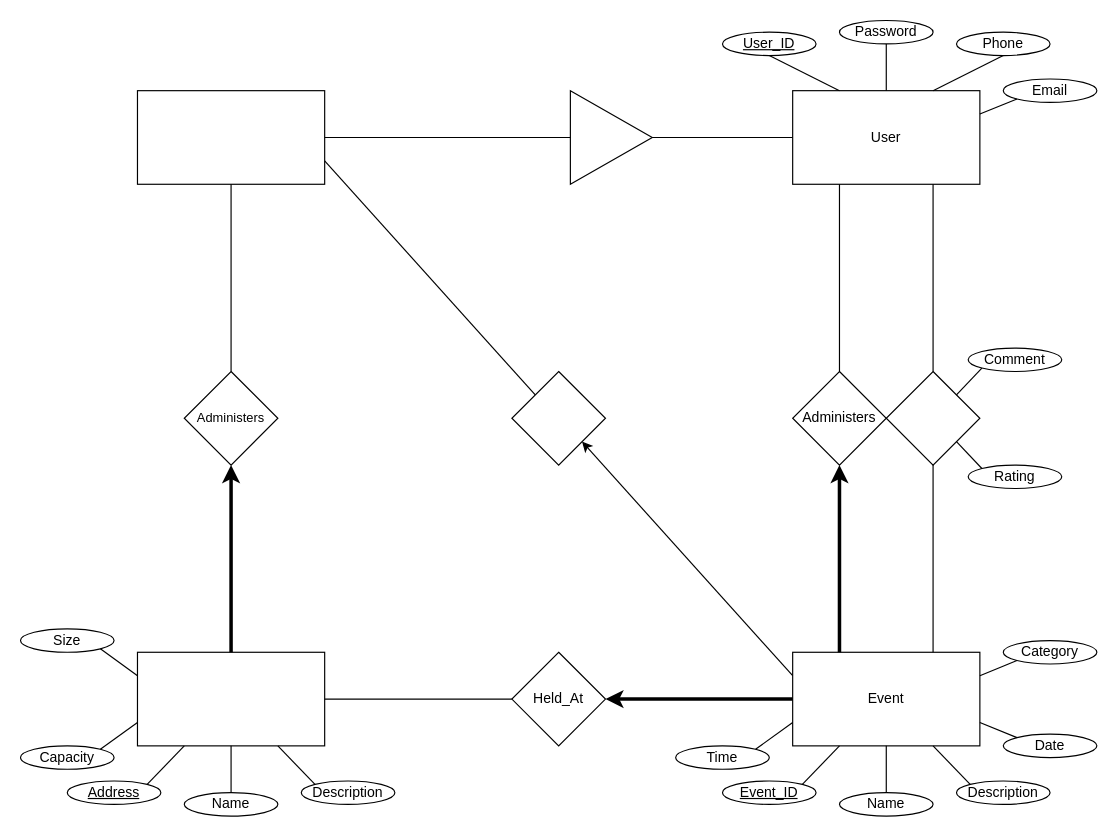
Some shapes in this 1117 by 837 pixel diagram are drawn without their labels. The centre of each missing label's shape, as x and y in pixels:
"Approves" goes at pixel 558 417.
"Attends" goes at pixel 932 417.
"ISA" goes at pixel 610 137.
"Location" goes at pixel 230 698.
"Super_Admin" goes at pixel 230 137.
